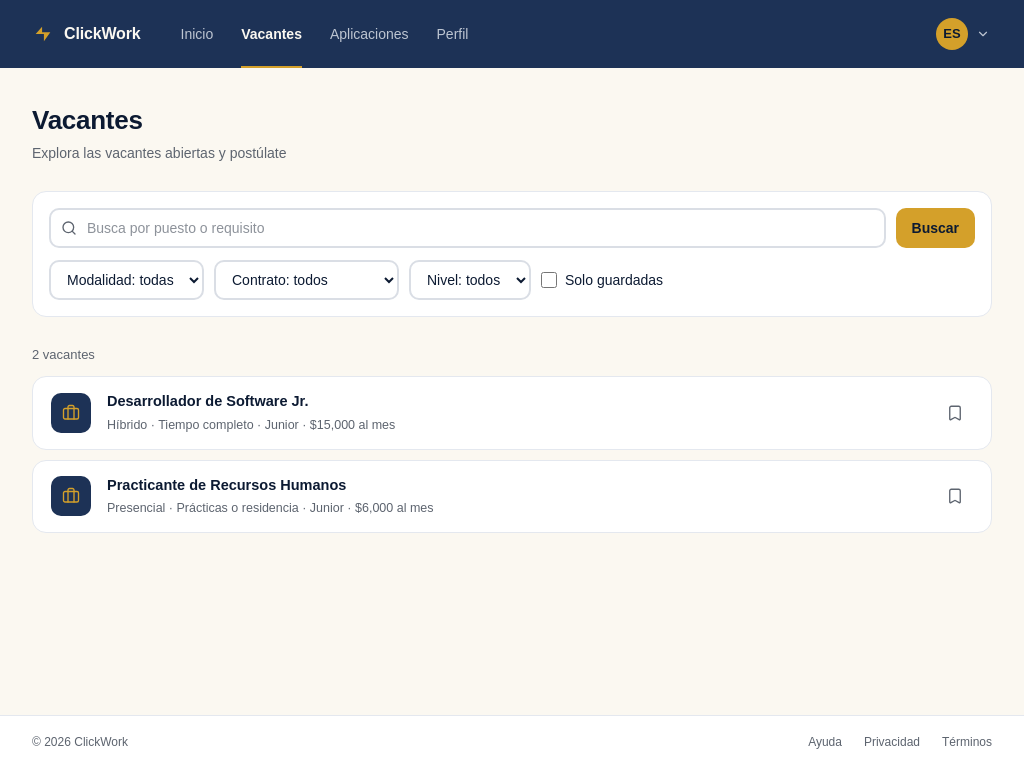
Test: JobsPage › filters by contract type
Expected: the text "2 vacantes" is shown, [32, 346, 95, 362]
Select "Prácticas o residencia" in the dropdown named "Tipo de contrato" at [306, 280], box [214, 260, 399, 300]
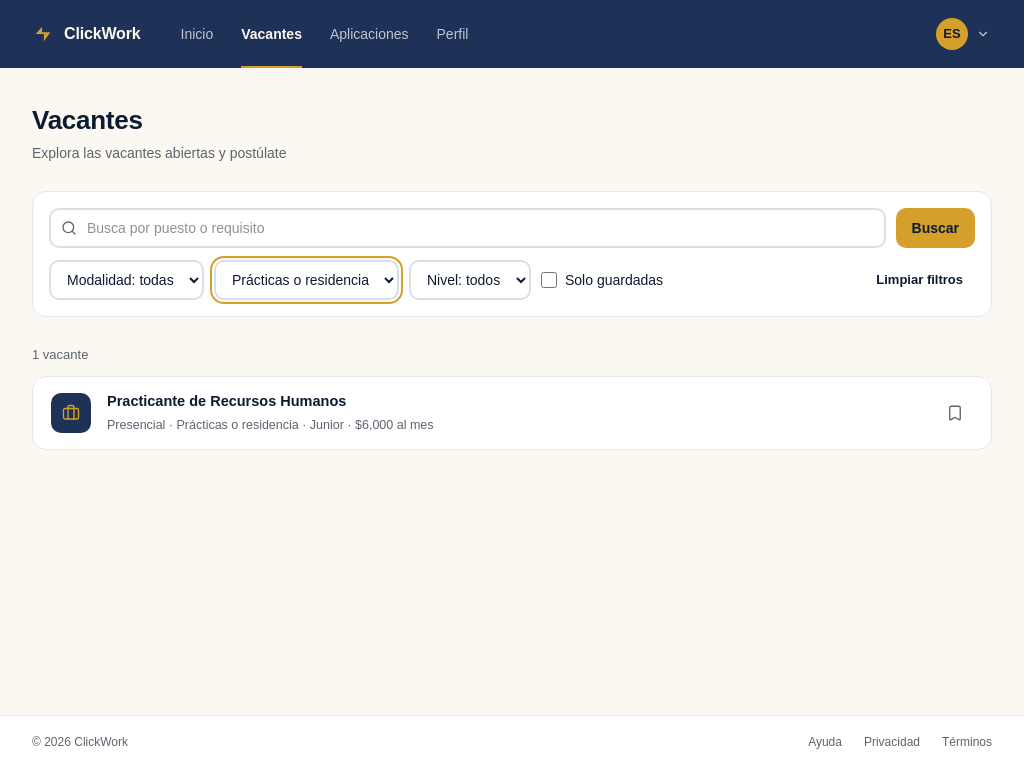
Expected: the link "Practicante de Recursos Humanos" is shown, [107, 393, 346, 409]
Expected: the text "1 vacante" is shown, [32, 346, 88, 362]
